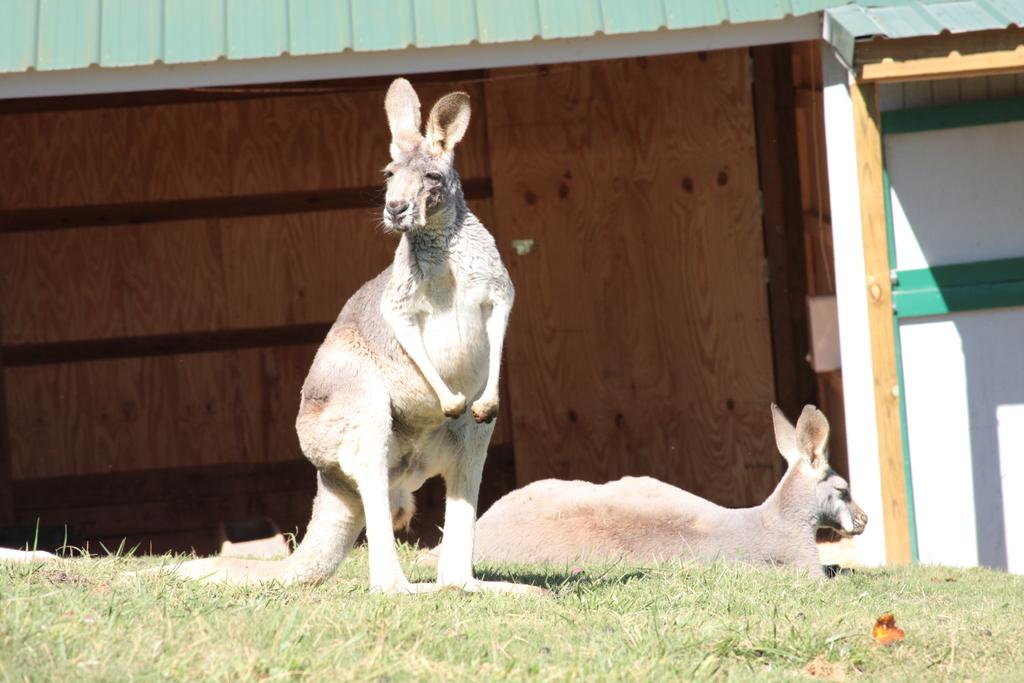kangaroo: (113, 83, 562, 596), (414, 406, 866, 582)
